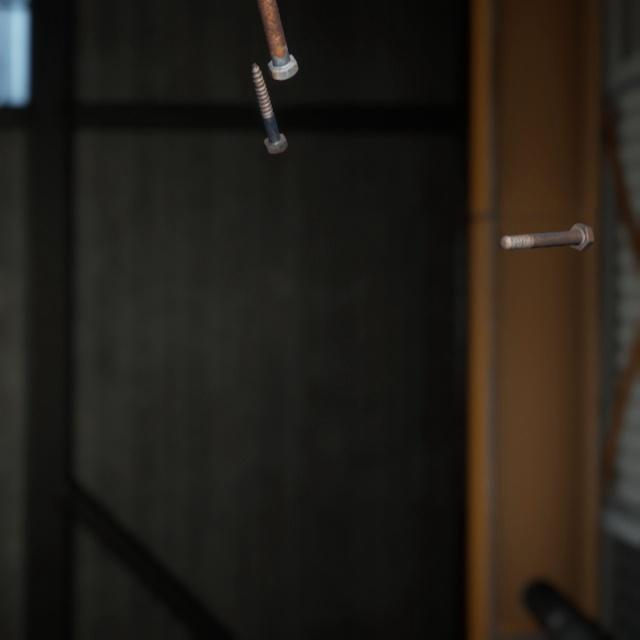bolt: (247, 46, 292, 146), (495, 203, 598, 240), (254, 0, 302, 76)
